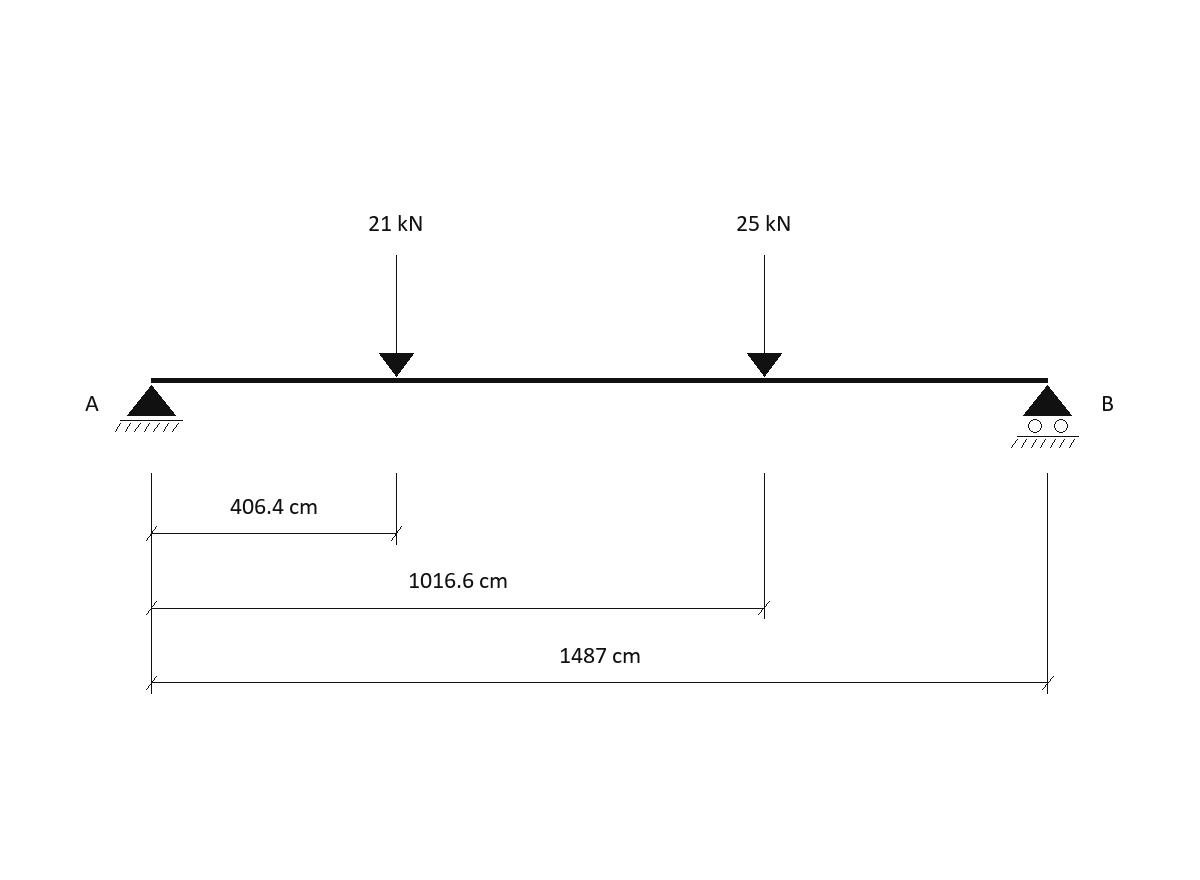pin_support: (115, 385, 183, 432)
point_load: (379, 255, 414, 377), (747, 255, 782, 377)
roller_support: (1011, 385, 1079, 448)
